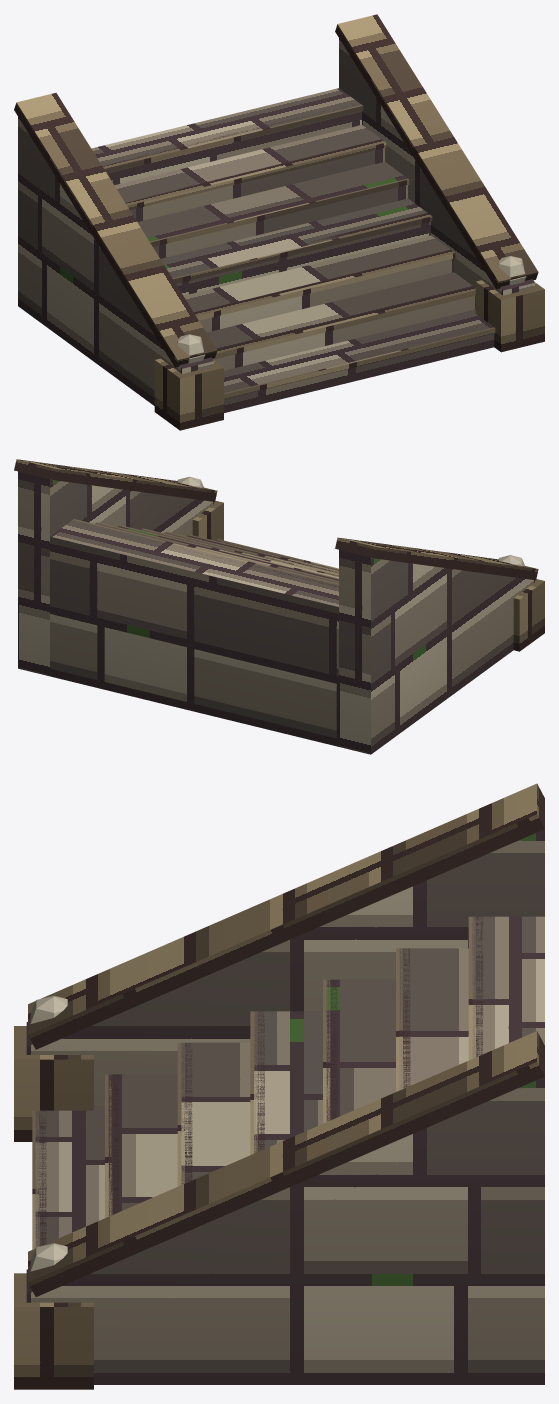
The model's file is scene_stair_glass.glb.
3 views of the same model, one above another, from view 1: azimuth 30°, elevation 25°; view 2: azimuth 150°, elevation 25°; view 3: azimuth 270°, elevation 25° (orthographic). The views are drawn at different scales.
Visible parts, largest first — view 1: scene_stair_glass; view 2: scene_stair_glass; view 3: scene_stair_glass.
Boxes of the visible parts, x1,y1,x2,y2 form: scene_stair_glass: (14, 14, 544, 430); scene_stair_glass: (14, 459, 544, 754); scene_stair_glass: (14, 783, 544, 1389).
Size of the model in its own units: 3.66 by 1.98 by 2.92.
2 materials, 1 textured.
